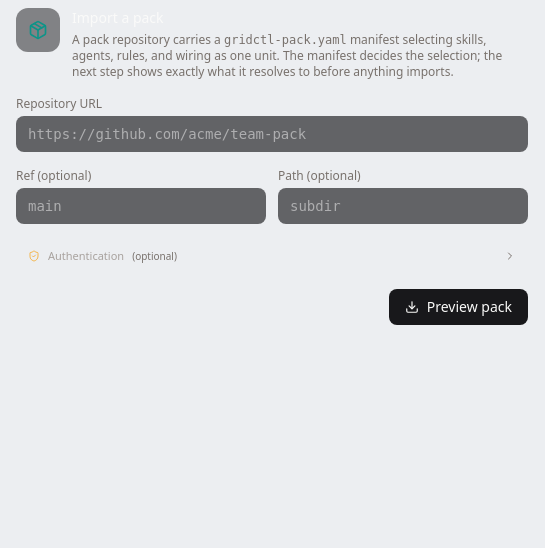
Test: PackImportWizard — unreachable ssh-agent › "Try HTTPS instead" rewrites the URL and opens the card in vault mode
This screenshot has width=545, height=548.
Type "git@github.com:acme/private-pack.git" into the field named "pack repository url" at (272, 134), box [16,116,528,152]
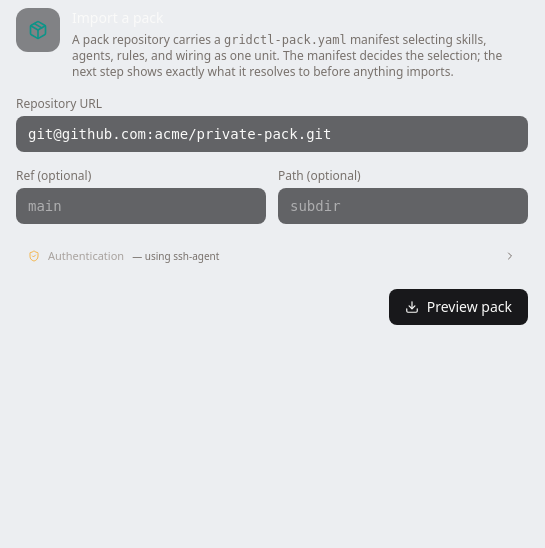
Click the button "Preview pack" at (458, 306), box [389,288,528,324]
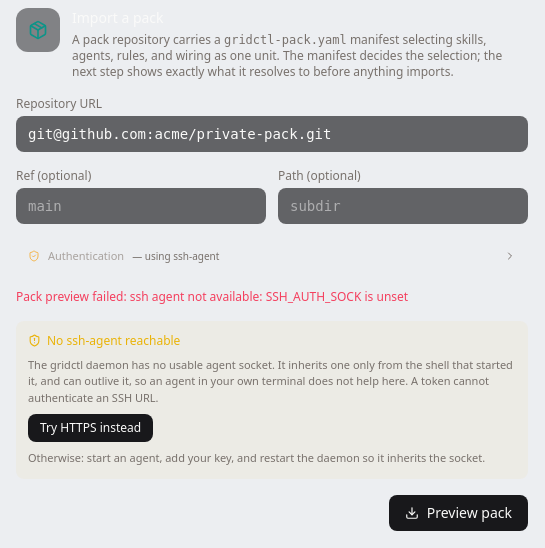
Expected: the button "Try HTTPS instead" is shown
Click the button "Try HTTPS instead" at (91, 428), box [28,414,153,442]
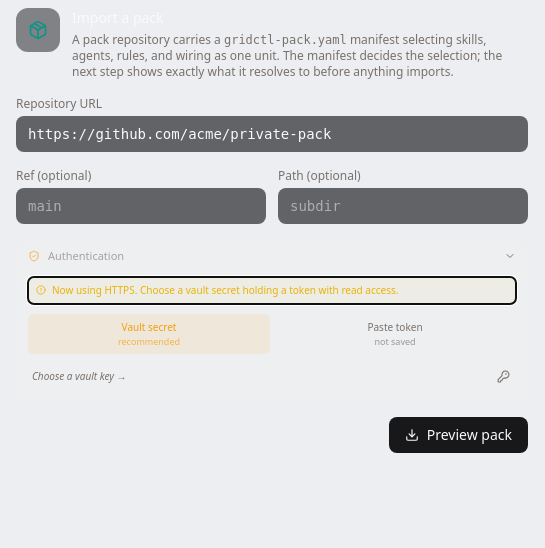
Expected: the field named "pack repository url" holds "https://github.com/acme/private-pack", [16,116,528,152]
Expected: the button "Authentication" is expanded, [16,240,528,272]
Expected: the radio button labelled "Vault secret recommended" is checked, [28,314,270,354]
